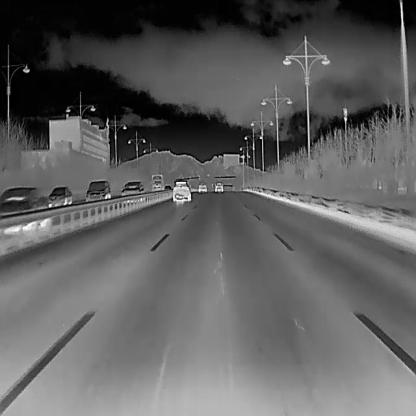car: (0, 185, 43, 216), (84, 179, 110, 200), (47, 186, 72, 206), (172, 180, 191, 202), (120, 180, 144, 195), (196, 182, 208, 193), (213, 182, 223, 192), (164, 184, 171, 190)
truck: (149, 173, 163, 193)
